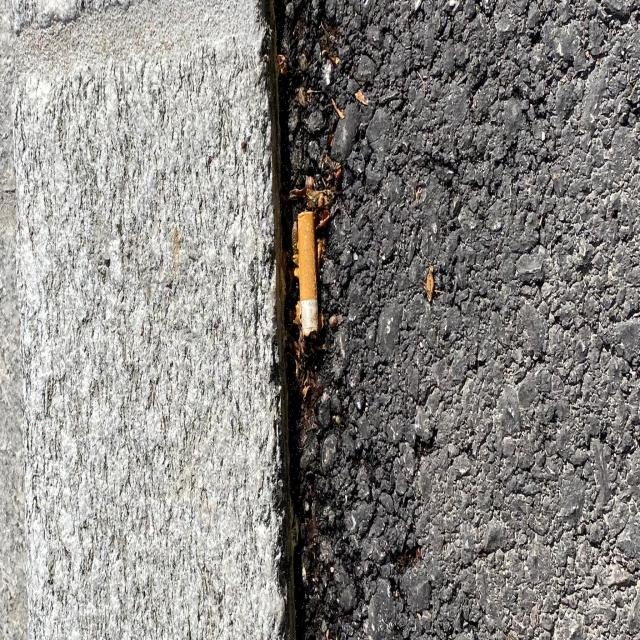other waste: (296, 208, 320, 343)
